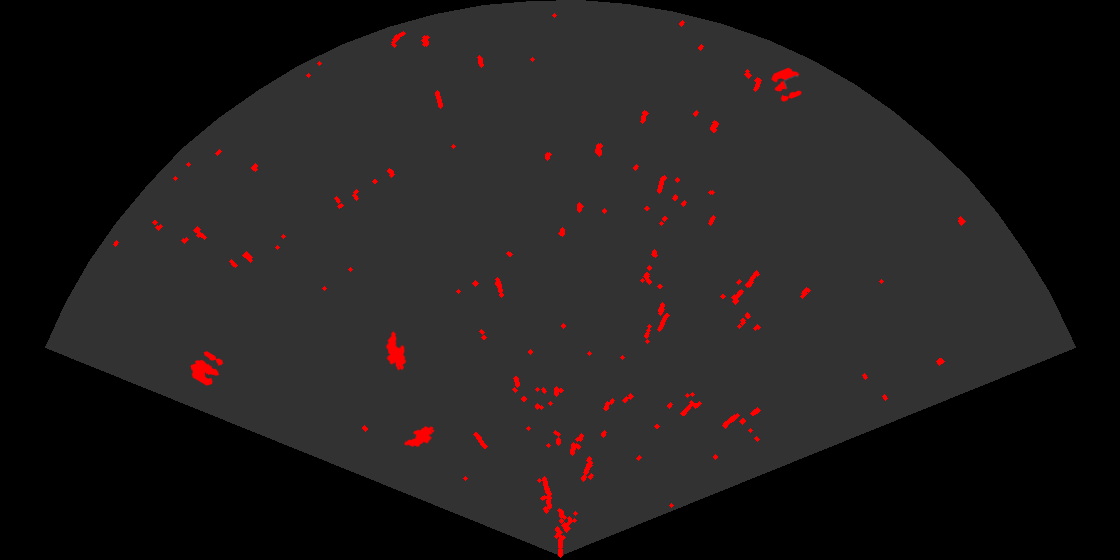AUV: (384, 329, 408, 372), (402, 425, 436, 449)
ball: (189, 349, 225, 387), (770, 66, 803, 103)
